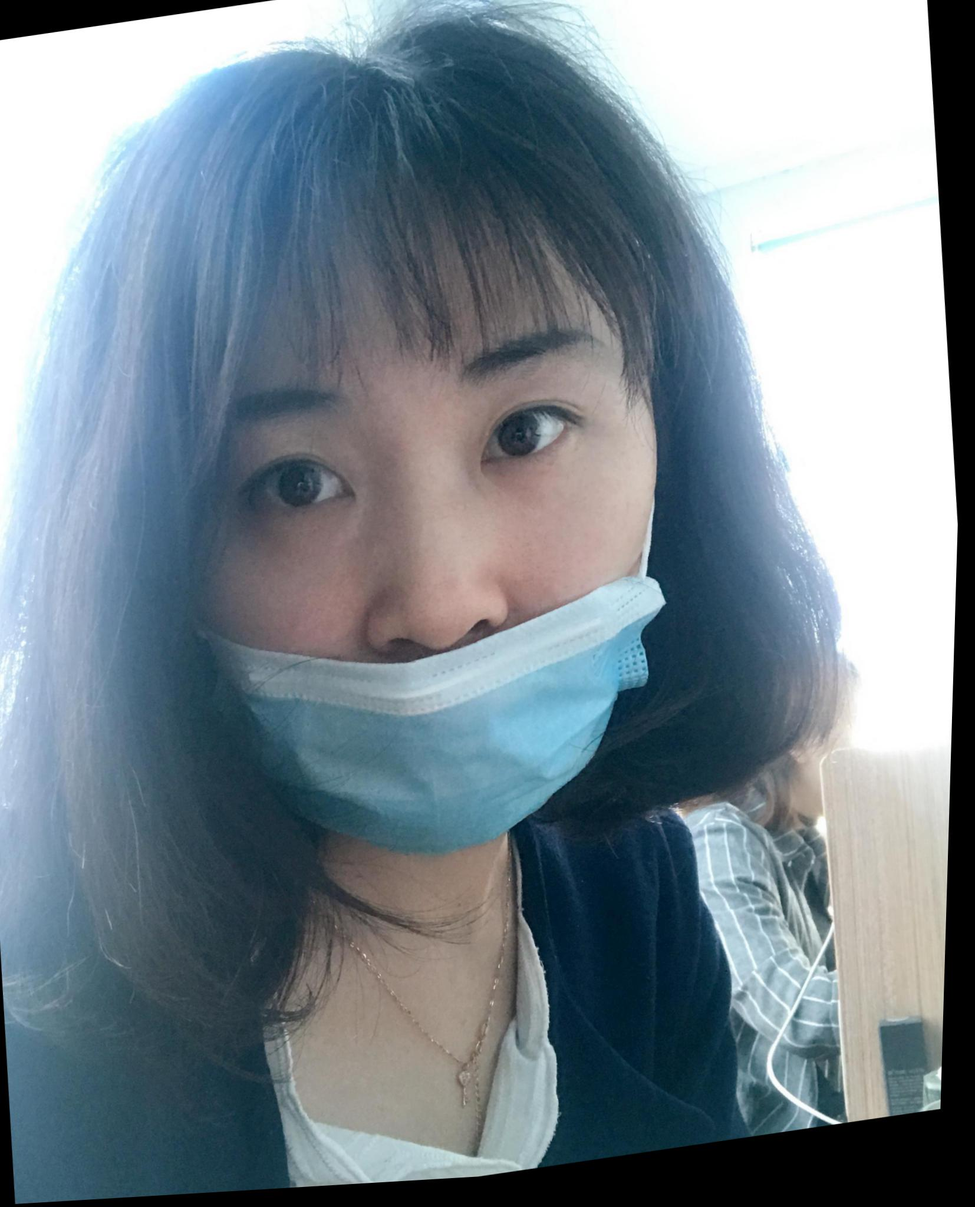WRONG: (142, 240, 700, 899)
